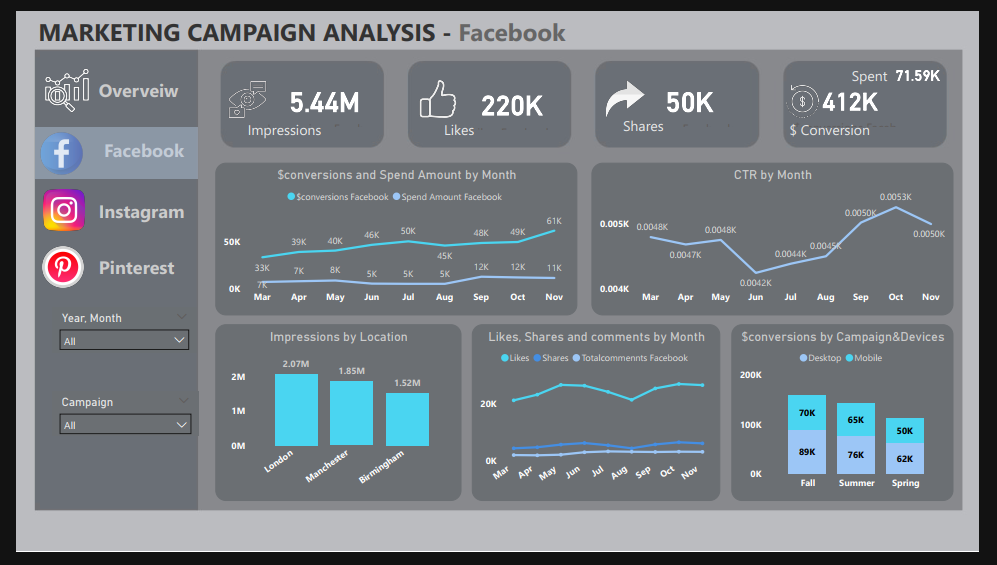

What the dashboard file says about the page in this screenshot:
{"tool":"powerbi","page":{"name":"Facebook","canvas":[1280,720],"ordinal":1},"visuals":[{"type":"card","fields":{"Values":["Facebook Calculation.Impressions Facebook"]},"box":[327.7,98.4,163.1,60.2],"z":0},{"type":"card","fields":{"Values":["Facebook Calculation.Likes Facebook"]},"box":[577.5,102.9,163.1,60.2],"z":1000},{"type":"card","fields":{"Values":["Facebook Calculation.Shares Facebook"]},"box":[812.6,98.4,163.1,60.2],"z":2000},{"type":"card","fields":{"Values":["Facebook Calculation.$conversions Facebook"]},"box":[1027.1,98.4,163.1,60.2],"z":3000},{"type":"image","box":[277.5,87.8,60,60],"z":4000},{"type":"image","box":[531.4,87.4,60,60],"z":5000},{"type":"image","box":[780,87.4,60,60],"z":6000},{"type":"image","box":[1018.3,94,54.4,52.9],"z":7000},{"type":"lineChart","title":"$conversions and Spend Amount by Month ","fields":{"Category":["Calender.Month name"],"Y":["Facebook Calculation.$conversions Facebook","Facebook Calculation.Spend Amount Facebook"]},"box":[264.7,202.4,481.2,202.4],"z":8000},{"type":"lineChart","title":"CTR by Month","fields":{"Category":["Calender.Month name"],"Y":["Facebook Calculation.CTR Facebook"]},"box":[764.6,202.4,481.2,202.4],"z":9000},{"type":"image","box":[27.9,70.5,77.9,69.1],"z":10000},{"type":"image","box":[25,154.3,70.5,70.5],"z":11000},{"type":"textbox","box":[111.7,163.1,148.4,51.4],"z":12000},{"type":"image","box":[30.9,232.2,64.7,64.7],"z":13000},{"type":"image","box":[29.4,308.6,64.7,64.7],"z":14000},{"type":"shape","box":[26.4,154.3,216,69.1],"z":15000},{"type":"textbox","box":[24.9,0,805.1,60.7],"z":16000},{"type":"slicer","fields":{"Values":["data.Campaign"]},"box":[48.3,506.1,194.6,59.2],"z":17000},{"type":"slicer","fields":{"Values":["Calender.Date.Variation.Date Hierarchy.Year","Calender.Month name"]},"box":[48.5,393.8,191,60.2],"z":18000},{"type":"textbox","box":[302.7,139.6,167.5,36.7],"z":19000},{"type":"textbox","box":[564.2,139.6,167.5,36.7],"z":20000},{"type":"textbox","box":[802.3,135.2,167.5,36.7],"z":21000},{"type":"textbox","box":[1022.7,139.6,167.5,36.7],"z":22000},{"type":"card","fields":{"Values":["Facebook Calculation.Spend Amount Facebook"]},"box":[1116.7,55.8,163.1,60.2],"z":23000},{"type":"textbox","box":[1106.4,67.6,98.4,38.2],"z":24000},{"type":"clusteredColumnChart","title":"Impressions by Location","fields":{"Category":["data.City/Location"],"Y":["Facebook Calculation.Impressions Facebook"]},"box":[264.7,417.3,327,235.1],"z":25000},{"type":"lineChart","title":"Likes, Shares and comments  by Month ","fields":{"Y":["Facebook Calculation.Likes Facebook","Facebook Calculation.Shares Facebook","Facebook Calculation.Totalcommennts Facebook"],"Category":["Calender.Month name"]},"box":[605.7,417.3,330.1,235.1],"z":26000},{"type":"columnChart","title":"$conversions by Campaign&Devices","fields":{"Category":["data.Campaign"],"Y":["Facebook Calculation.$conversions Facebook"],"Series":["data.Device"]},"box":[951.4,417.3,294.3,235.1],"z":27000},{"type":"actionButton","box":[105.8,307.1,146.9,66.1],"z":28000},{"type":"actionButton","box":[105.8,232.2,146.9,66.1],"z":29000},{"type":"actionButton","box":[105.8,72,146.9,66.1],"z":30000}]}

Visuals, with their boxes in screenshot pixels (x1, y1, x2, y2), scaled from the page's 1280x720 canvas onto the 997x565 screenshot:
card - Facebook Calculation.Impressions Facebook: l=255, t=77, r=382, b=124
card - Facebook Calculation.Likes Facebook: l=450, t=81, r=577, b=128
card - Facebook Calculation.Shares Facebook: l=633, t=77, r=760, b=124
card - Facebook Calculation.$conversions Facebook: l=800, t=77, r=927, b=124
image: l=216, t=69, r=263, b=116
image: l=414, t=69, r=461, b=116
image: l=608, t=69, r=654, b=116
image: l=793, t=74, r=836, b=115
"$conversions and Spend Amount by Month " lineChart: l=206, t=159, r=581, b=318
"CTR by Month" lineChart: l=596, t=159, r=970, b=318
image: l=22, t=55, r=82, b=110
image: l=19, t=121, r=74, b=176
textbox: l=87, t=128, r=203, b=168
image: l=24, t=182, r=74, b=233
image: l=23, t=242, r=73, b=293
shape: l=21, t=121, r=189, b=175
textbox: l=19, t=0, r=646, b=48
slicer - data.Campaign: l=38, t=397, r=189, b=444
slicer - Calender.Date.Variation.Date Hierarchy.Year x Calender.Month name: l=38, t=309, r=187, b=356
textbox: l=236, t=110, r=366, b=138
textbox: l=439, t=110, r=570, b=138
textbox: l=625, t=106, r=755, b=135
textbox: l=797, t=110, r=927, b=138
card - Facebook Calculation.Spend Amount Facebook: l=870, t=44, r=996, b=91
textbox: l=862, t=53, r=938, b=83
"Impressions by Location" clusteredColumnChart: l=206, t=327, r=461, b=512
"Likes, Shares and comments  by Month " lineChart: l=472, t=327, r=729, b=512
"$conversions by Campaign&Devices" columnChart: l=741, t=327, r=970, b=512
actionButton: l=82, t=241, r=197, b=293
actionButton: l=82, t=182, r=197, b=234
actionButton: l=82, t=56, r=197, b=108
